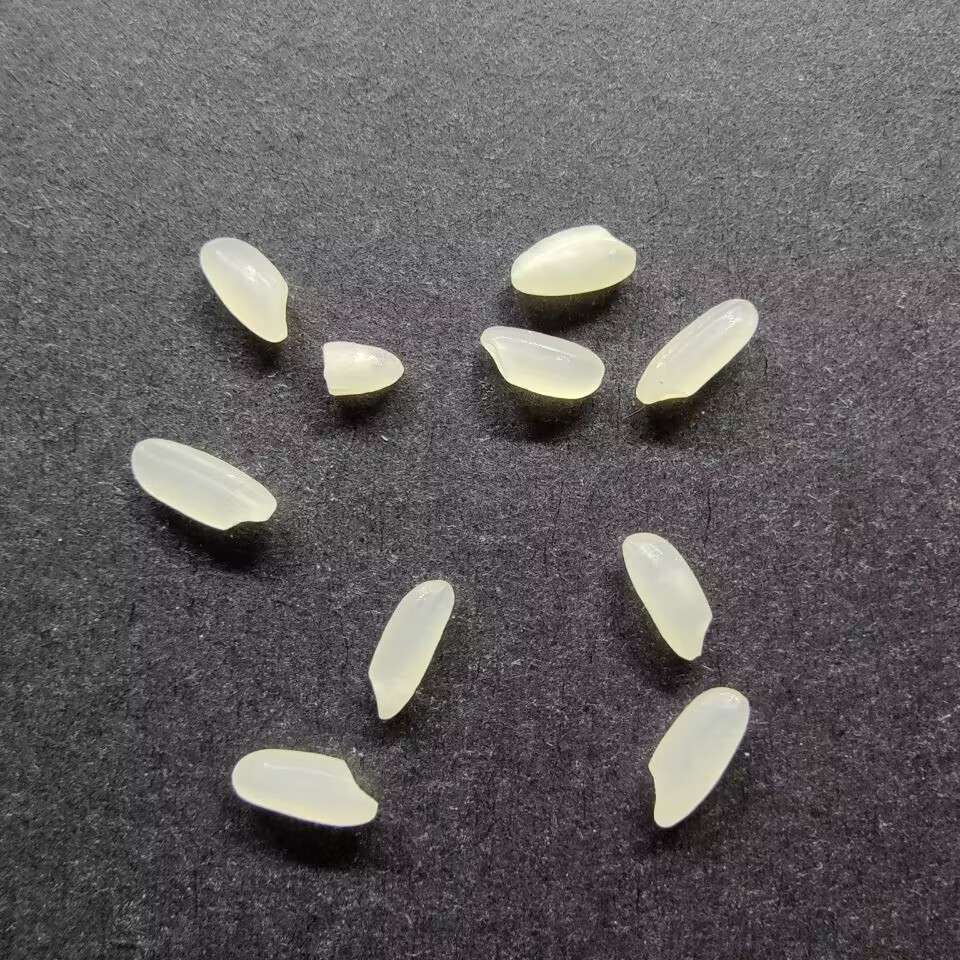broken: (318, 341, 407, 397)
rice: (644, 684, 752, 829), (634, 296, 761, 408), (129, 436, 278, 531), (365, 576, 458, 722), (619, 530, 715, 661), (227, 747, 379, 829), (196, 234, 291, 344), (507, 222, 638, 299), (476, 323, 606, 400)
